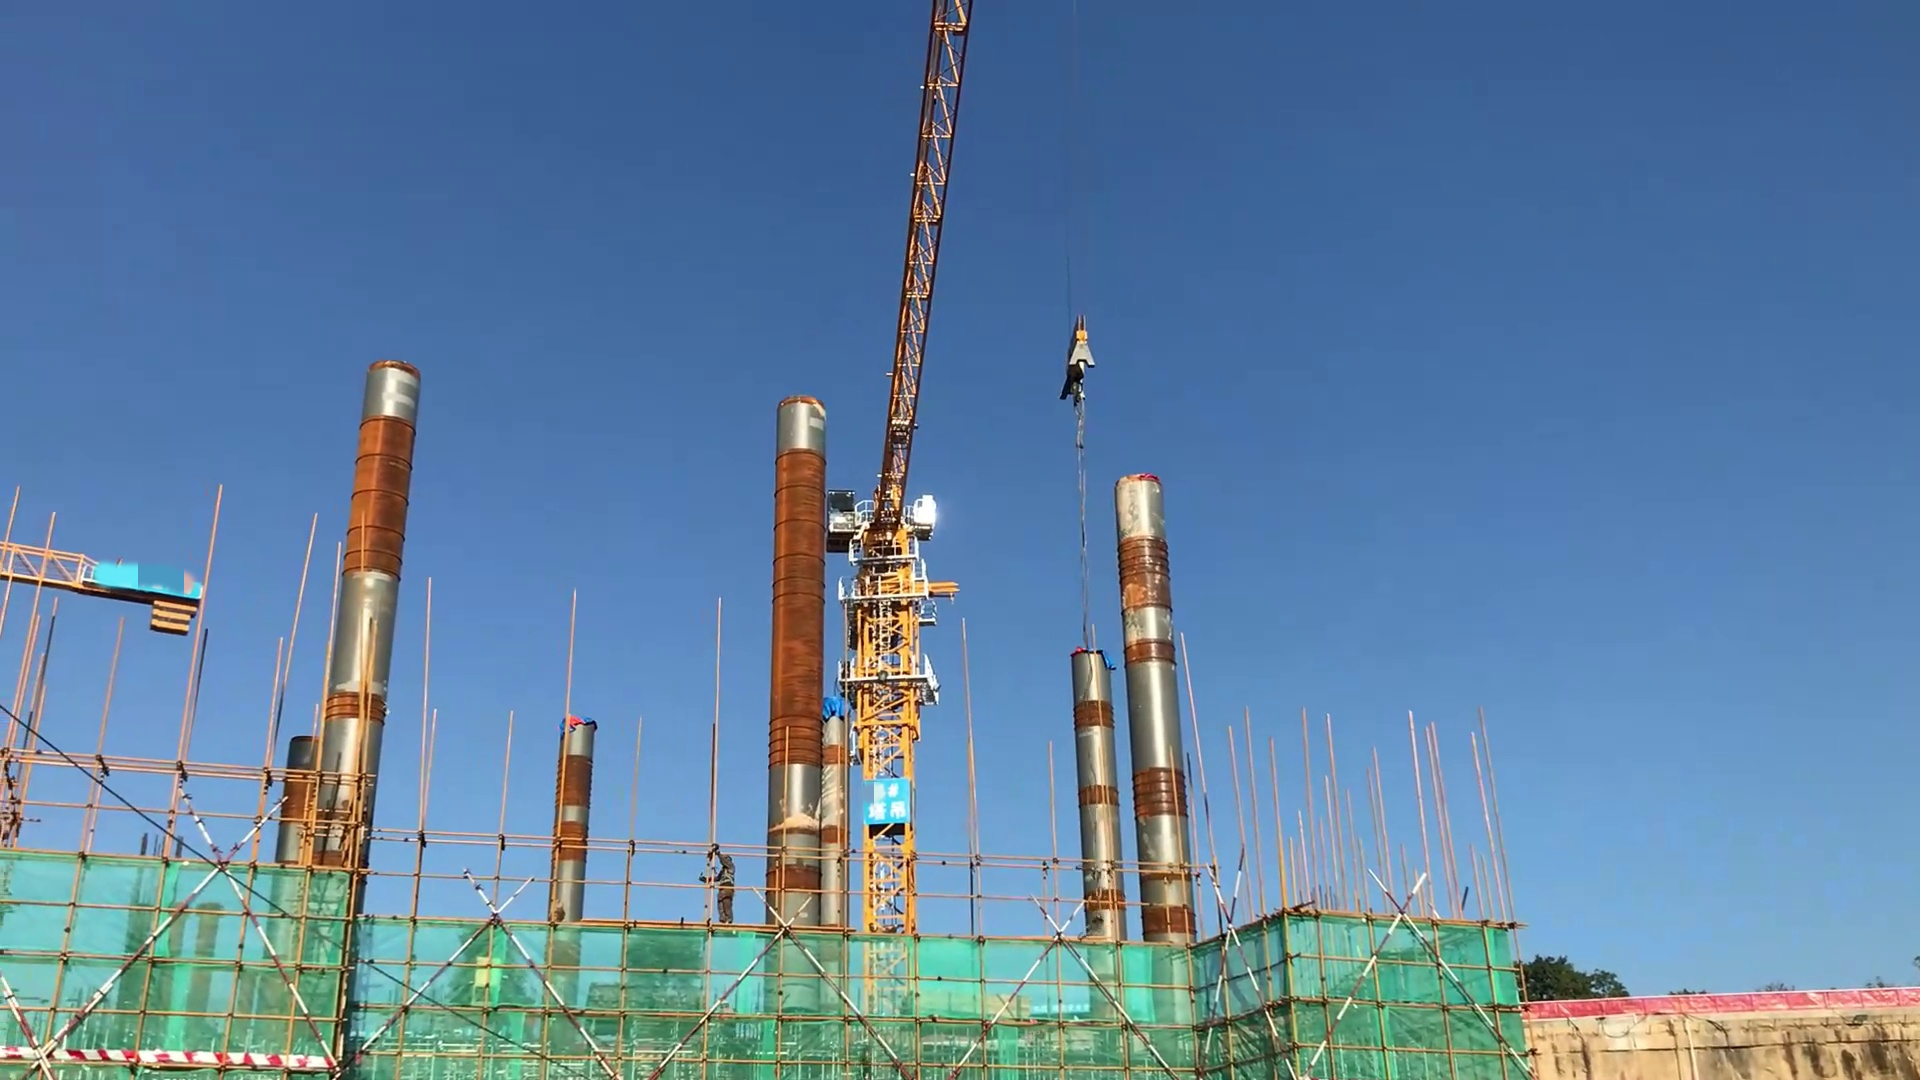hook: (1061, 313, 1093, 403)
person: (695, 839, 742, 932)
vest: (711, 866, 739, 894)
